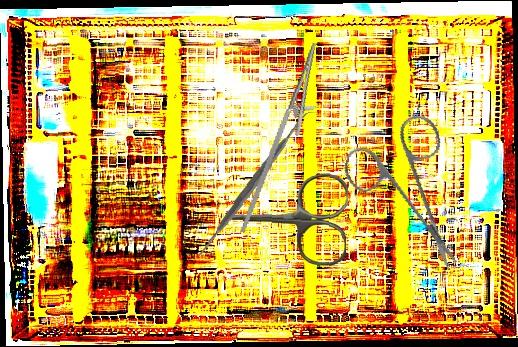Iris Scissors: (324, 98, 495, 272), (224, 169, 349, 268)
Needle Holder: (239, 36, 332, 243)
Spatula Surgical: (181, 112, 325, 257)
